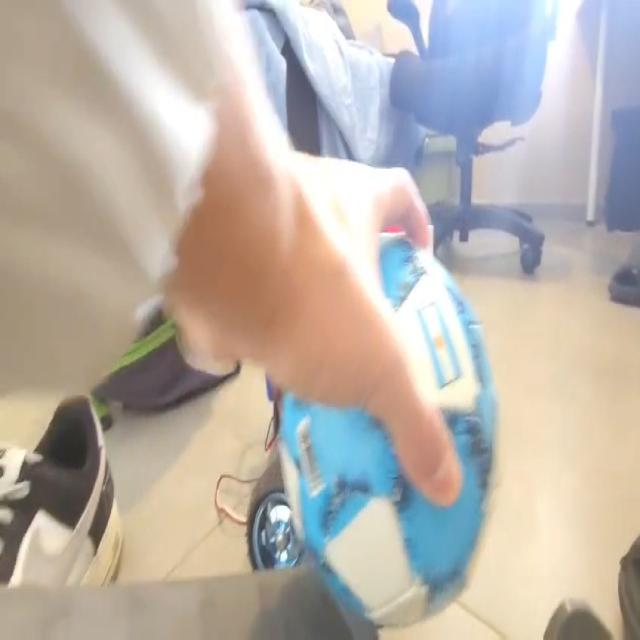Robot: (247, 378, 303, 581)
